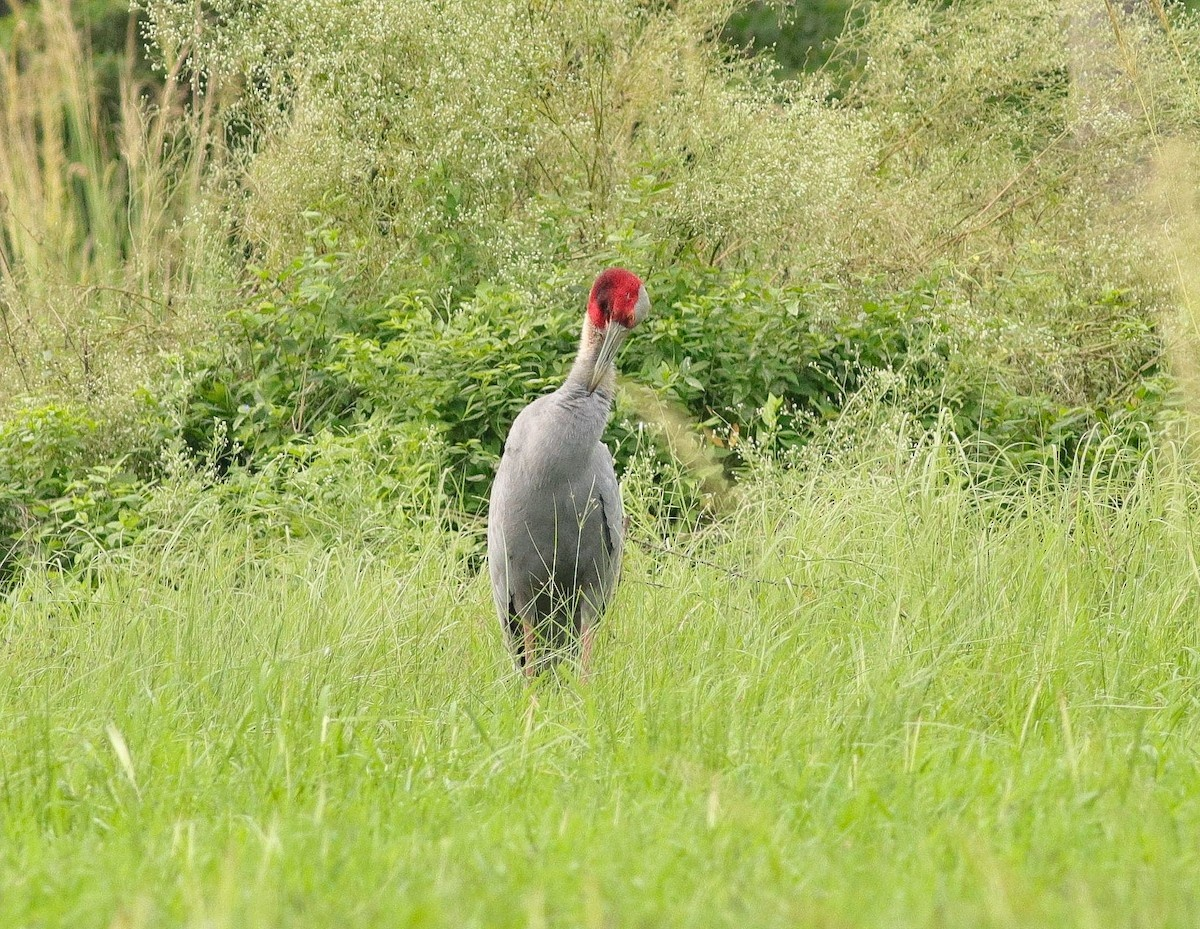crane: (482, 258, 652, 686)
